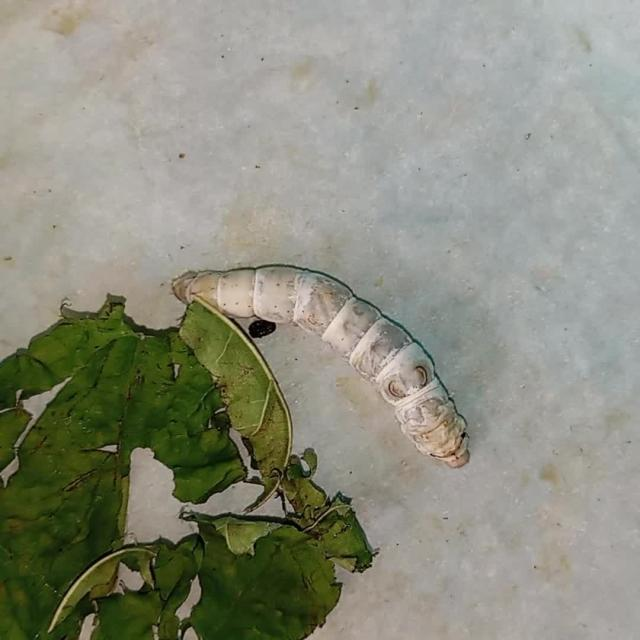Grasserie: (142, 203, 500, 540)
